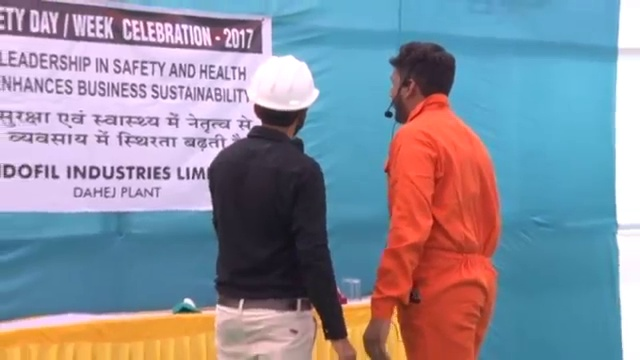helmet: (247, 54, 321, 111)
helmet_off: (382, 41, 458, 125)
helmet_on: (246, 53, 322, 136)
person: (206, 53, 357, 360), (362, 41, 501, 360)
